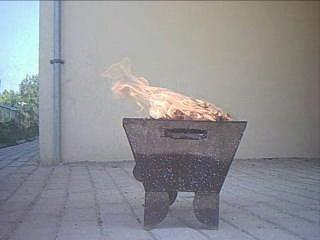fire: (112, 59, 231, 121)
